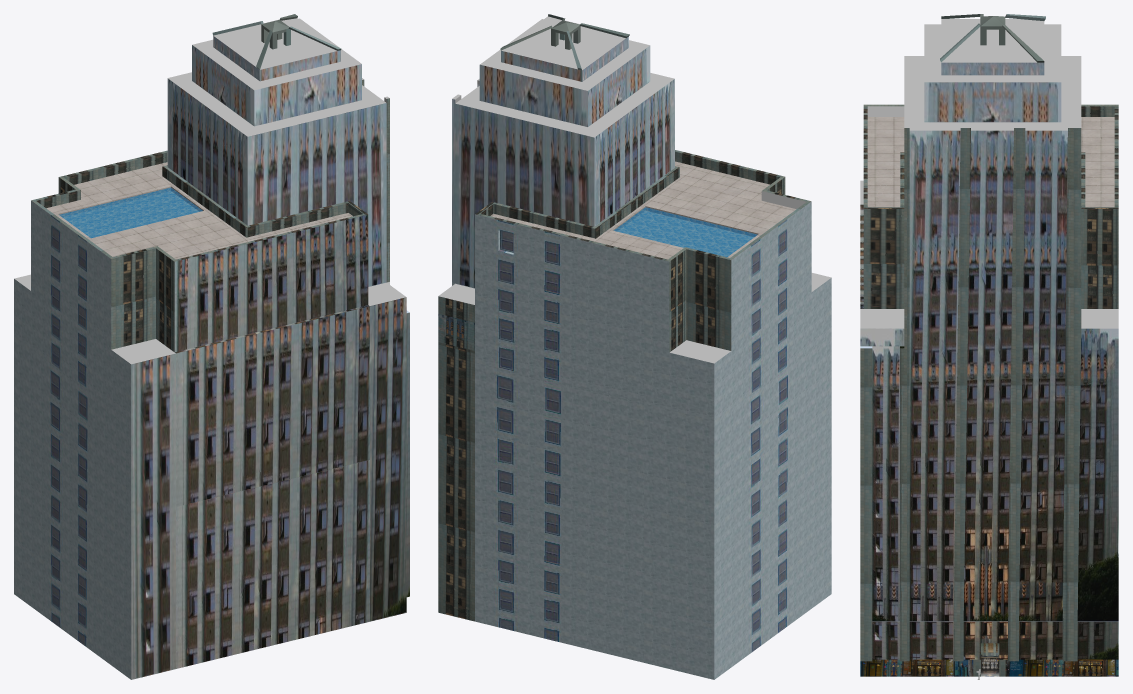
Rendered from Eastern_Columbia.fbx.
3 renders of one model, left to right at view 1: azimuth 30°, elevation 25°; view 2: azimuth 150°, elevation 25°; view 3: azimuth 270°, elevation 25°, orthographic. The views are drawn at different scales.
Visible parts, largest first — view 1: Model; view 2: Model; view 3: Model.
Part boxes in pixels (box(x1,y1,x2,y2)): Model: box(14, 14, 409, 679); Model: box(438, 14, 831, 679); Model: box(860, 14, 1118, 676).
Size of the model in its own units: 1964 by 3750 by 1411.
